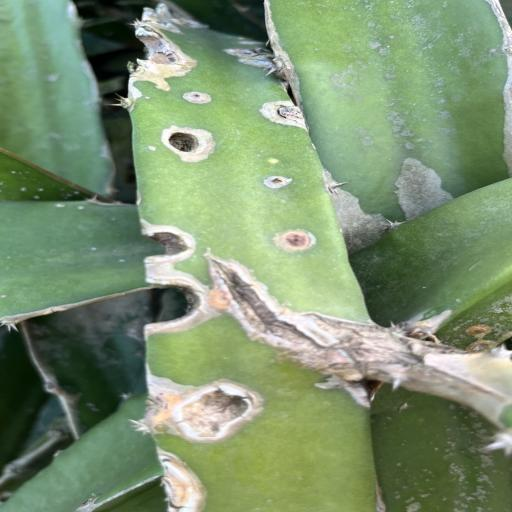stemcanker: (266, 157, 282, 167), (146, 145, 158, 152), (144, 95, 154, 100)
